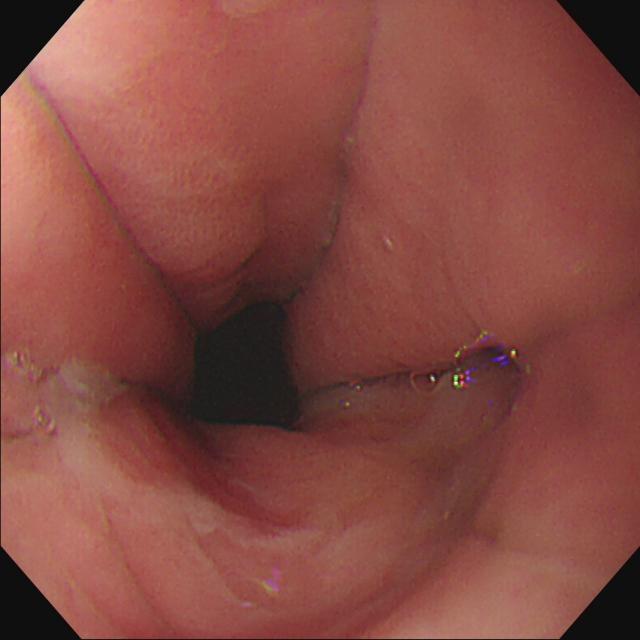A: (136, 88, 260, 251)
E: (192, 301, 304, 430)
J: (83, 486, 321, 551), (46, 358, 130, 484)
T: (405, 367, 448, 401)
U: (453, 346, 474, 394)
